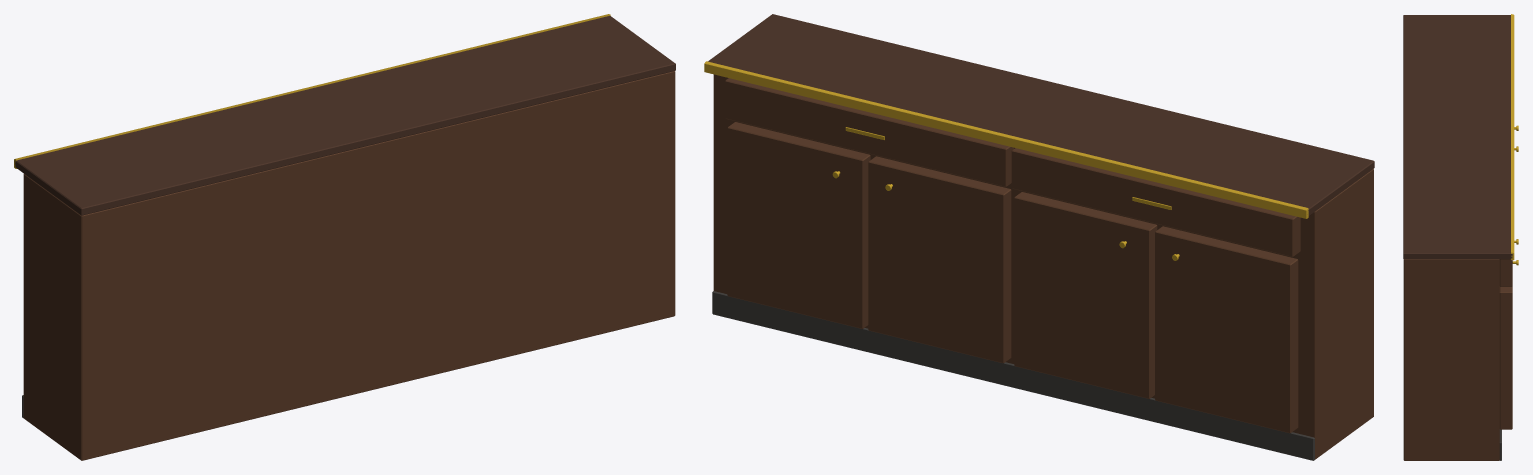
Rendered from prop_of_teller_worktop.glb.
The picture shows the model from 3 angles, left to right: view 1: azimuth 30°, elevation 25°; view 2: azimuth 150°, elevation 25°; view 3: azimuth 270°, elevation 25°; orthographic projection. The views are drawn at different scales.
Visible parts, largest first — view 1: Worktop; view 2: Worktop; view 3: Worktop.
Boxes of the visible parts, <box> form: Worktop: <box>14,14,675,460</box>; Worktop: <box>704,14,1374,460</box>; Worktop: <box>1403,14,1518,460</box>.
Bounding box in the file's own units: 2.46 × 1 × 0.503.
